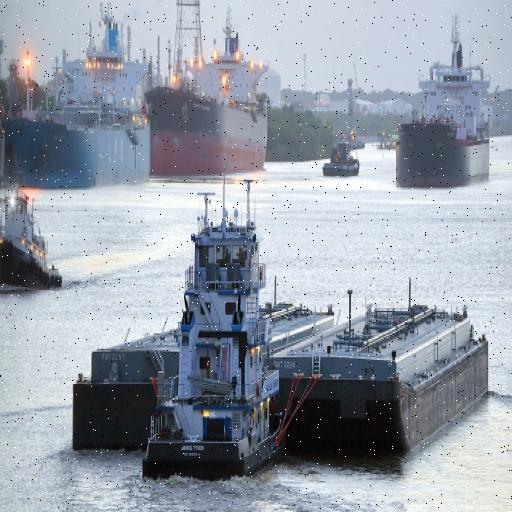tugboat: (142, 164, 292, 491)
